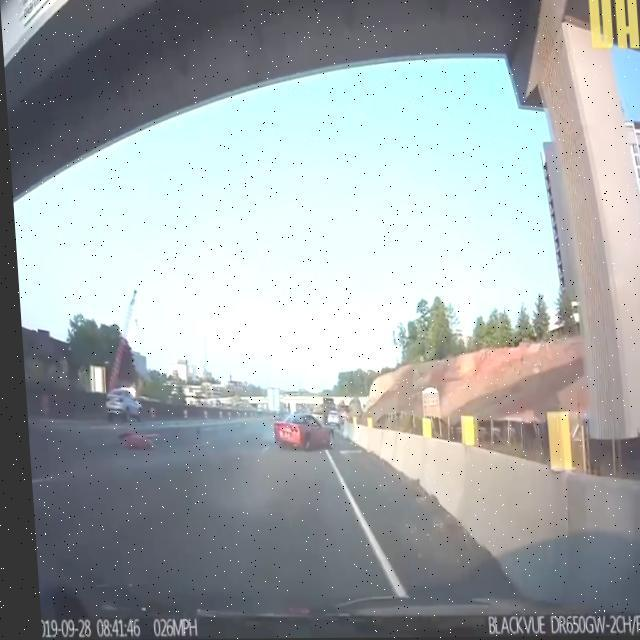single accident: (252, 382, 389, 484)
